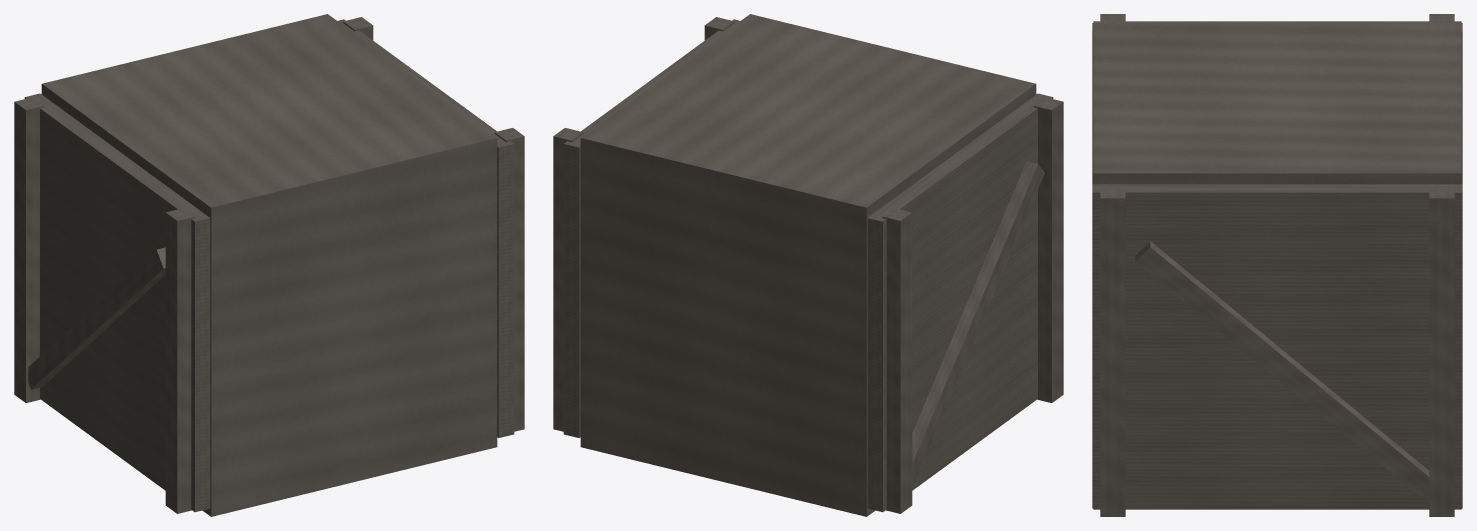
Rendered from timber_wall_x.glb.
3 views of the same model, side by side, from view 1: azimuth 30°, elevation 25°; view 2: azimuth 150°, elevation 25°; view 3: azimuth 270°, elevation 25° (orthographic). The views are drawn at different scales.
Parts seen in each view (by area): view 1: G3_timber_x; view 2: G3_timber_x; view 3: G3_timber_x.
Boxes of the visible parts, box(x1,y1,x2,y2) form: G3_timber_x: box(14, 14, 524, 516); G3_timber_x: box(553, 14, 1063, 516); G3_timber_x: box(1092, 14, 1462, 516).
Bounding box in the file's own units: 1.17 × 0.992 × 0.99.
Materials: 1 (1 with a texture image).
